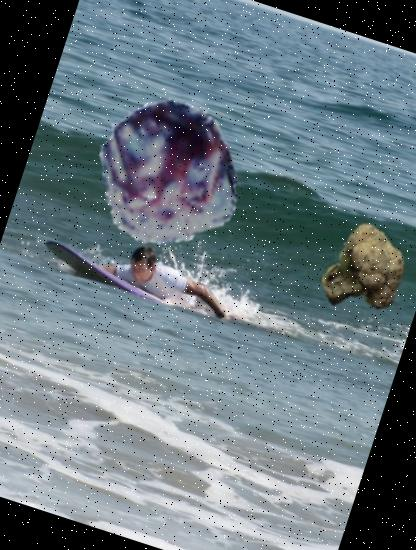Cauliflower: (305, 216, 416, 332)
Dates: (78, 81, 258, 262)
